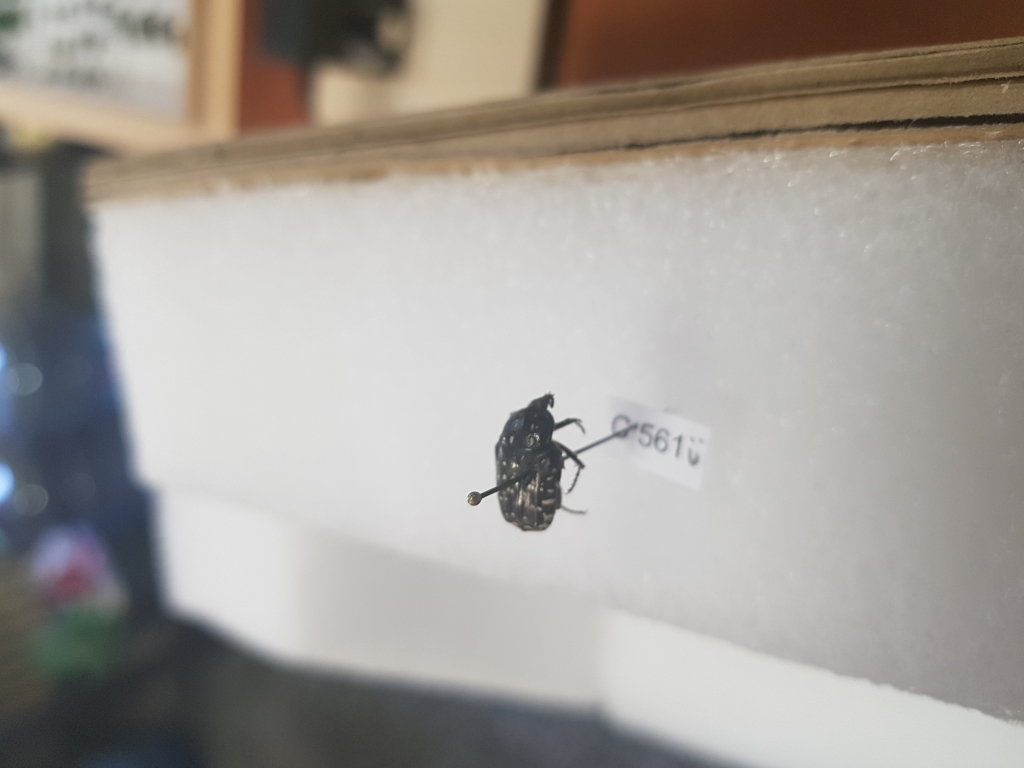Oxythyrea_funesta: (492, 391, 592, 539)
